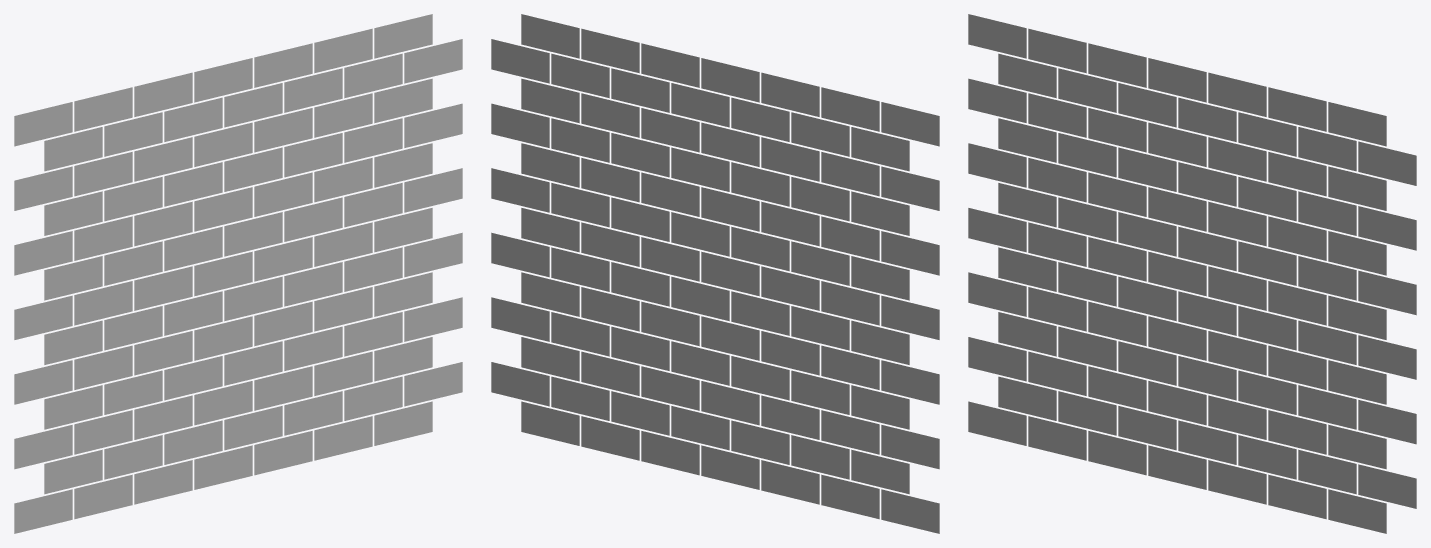
The model's file is minibrickbond.gltf.
3 views of the same model, side by side, from view 1: azimuth 30°, elevation 25°; view 2: azimuth 150°, elevation 25°; view 3: azimuth 330°, elevation 25° (orthographic).
Parts seen in each view (by area): view 1: minibrickbond; view 2: minibrickbond; view 3: minibrickbond.
Part boxes in pixels (bbox=[...]): minibrickbond: bbox=[14, 14, 462, 533]; minibrickbond: bbox=[491, 14, 939, 533]; minibrickbond: bbox=[968, 14, 1416, 533].
Bounding box in the file's own units: 342 × 305 × 0.
91 materials, 91 textured.
